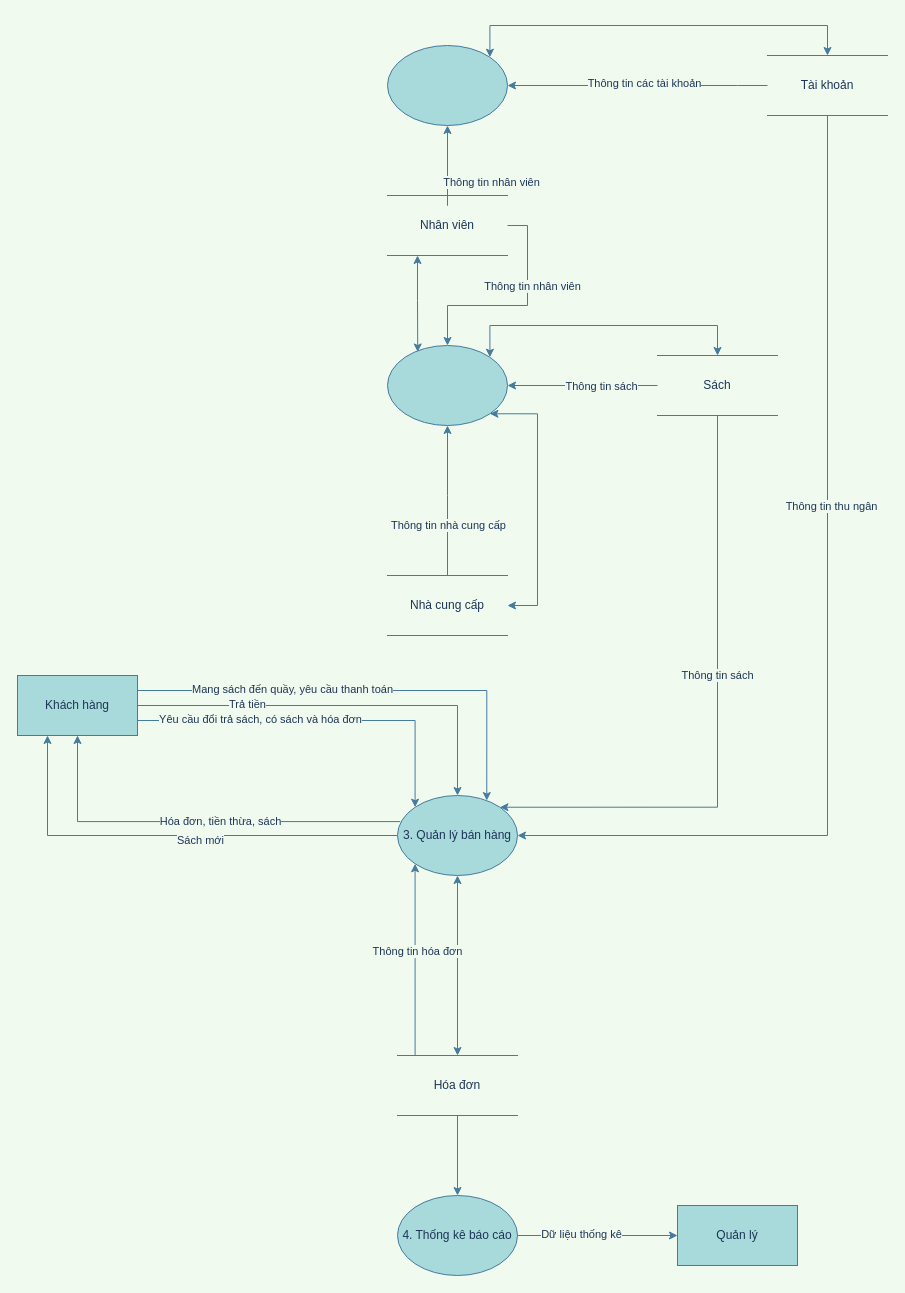
Some shapes in this 905 by 1293 pixel diagram are drawn without their labels. The box of each missing label's shape, as (x1, y1, x2, y2) in pixels:
1.0 Quản lý hệ thống: (386, 44, 508, 126)
2. Quản lý danh mục: (386, 344, 508, 426)
